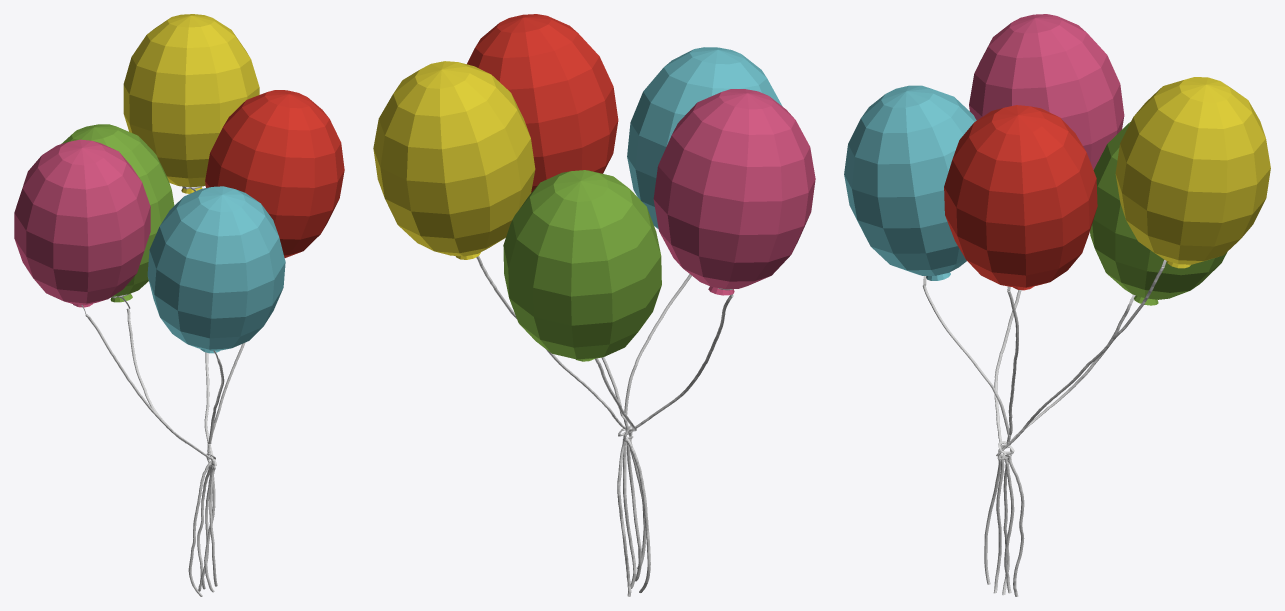
3 views of the same model, side by side, from view 1: azimuth 30°, elevation 25°; view 2: azimuth 150°, elevation 25°; view 3: azimuth 270°, elevation 25° (orthographic). The views are drawn at different scales.
Parts seen in each view (by area): view 1: node_MeshObject651660992-PolyPaper21, node_MeshObject796867776-PolyPaper21, node_MeshObject1170381056-PolyPaper21, node_MeshObject505688832-PolyPaper21; view 2: node_MeshObject651660992-PolyPaper21, node_MeshObject796867776-PolyPaper21, node_MeshObject1170381056-PolyPaper21, node_MeshObject505688832-PolyPaper21; view 3: node_MeshObject651660992-PolyPaper21, node_MeshObject796867776-PolyPaper21, node_MeshObject1170381056-PolyPaper21, node_MeshObject505688832-PolyPaper21.
Boxes of the visible parts, x1,y1,x2,y2 form: node_MeshObject651660992-PolyPaper21: (14, 14, 259, 592); node_MeshObject796867776-PolyPaper21: (61, 124, 285, 555); node_MeshObject1170381056-PolyPaper21: (131, 90, 344, 586); node_MeshObject505688832-PolyPaper21: (188, 460, 211, 596); node_MeshObject651660992-PolyPaper21: (373, 61, 815, 581); node_MeshObject796867776-PolyPaper21: (476, 47, 782, 542); node_MeshObject1170381056-PolyPaper21: (455, 14, 690, 568); node_MeshObject505688832-PolyPaper21: (617, 435, 650, 596); node_MeshObject651660992-PolyPaper21: (926, 14, 1270, 593); node_MeshObject796867776-PolyPaper21: (844, 85, 1227, 550); node_MeshObject1170381056-PolyPaper21: (944, 105, 1190, 584); node_MeshObject505688832-PolyPaper21: (1002, 454, 1024, 596).
Bounding box in the file's own units: 1.22 × 1.91 × 1.33.
